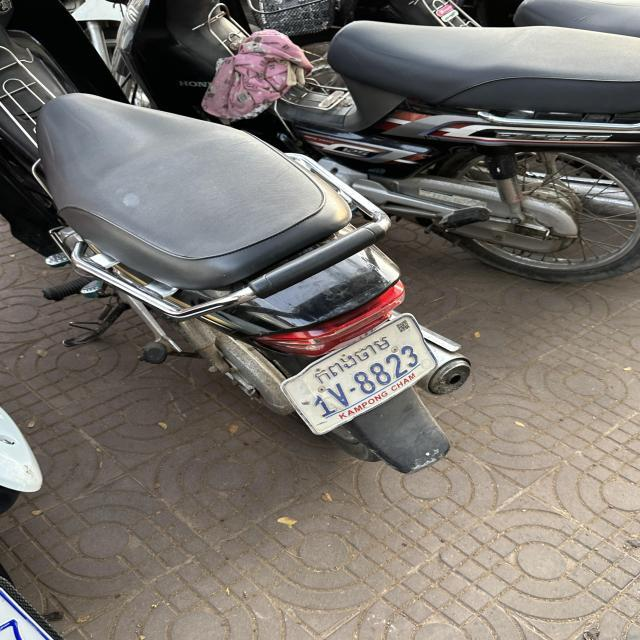Kampong_Cham: (313, 334, 390, 384)
